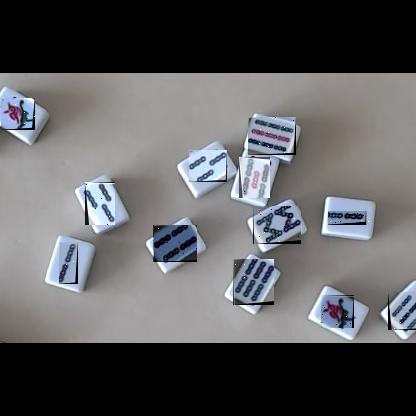1s: (321, 295, 354, 328), (1, 98, 35, 130)
2s: (59, 242, 78, 284), (329, 211, 371, 225)
3s: (85, 182, 115, 225), (189, 150, 227, 182)
4s: (153, 225, 197, 262)
5s: (239, 157, 270, 198)
6s: (233, 259, 274, 305)
7s: (388, 292, 416, 330)
8s: (253, 206, 301, 244)
9s: (248, 117, 296, 155)
